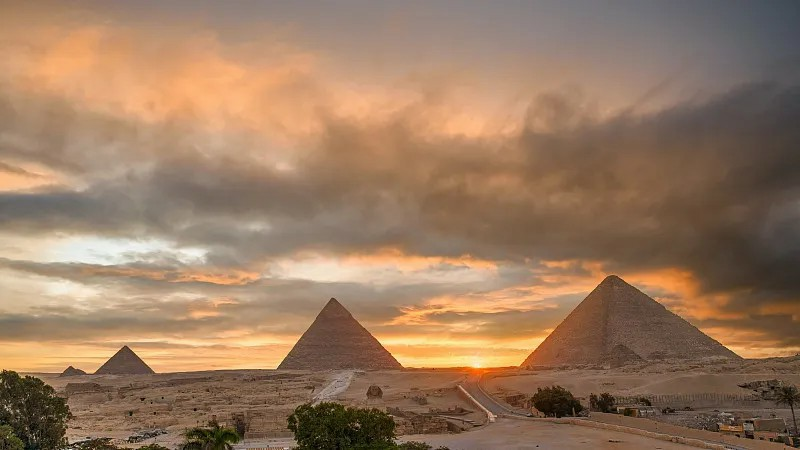Pyramid: (520, 277, 745, 369), (277, 297, 404, 371), (95, 347, 156, 374)
